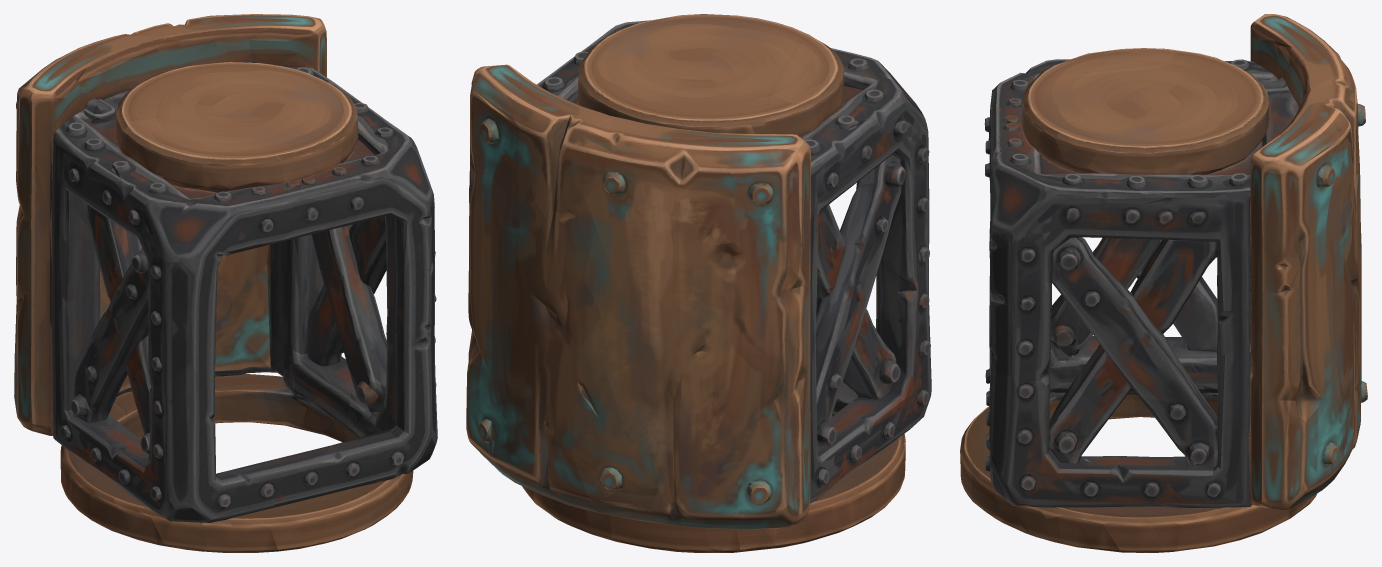
File: 06_shield_slab.glb
3 renders of one model, left to right at view 1: azimuth 30°, elevation 25°; view 2: azimuth 150°, elevation 25°; view 3: azimuth 270°, elevation 25°, orthographic. The views are drawn at different scales.
Visible parts, largest first — view 1: output_unwrapped; view 2: output_unwrapped; view 3: output_unwrapped.
Part boxes in pixels (<box>): output_unwrapped: <box>14,14,437,552</box>; output_unwrapped: <box>466,14,931,552</box>; output_unwrapped: <box>960,14,1367,552</box>.
Size of the model in its own units: 1.6 by 1.9 by 1.78.
1 material, 1 textured.
